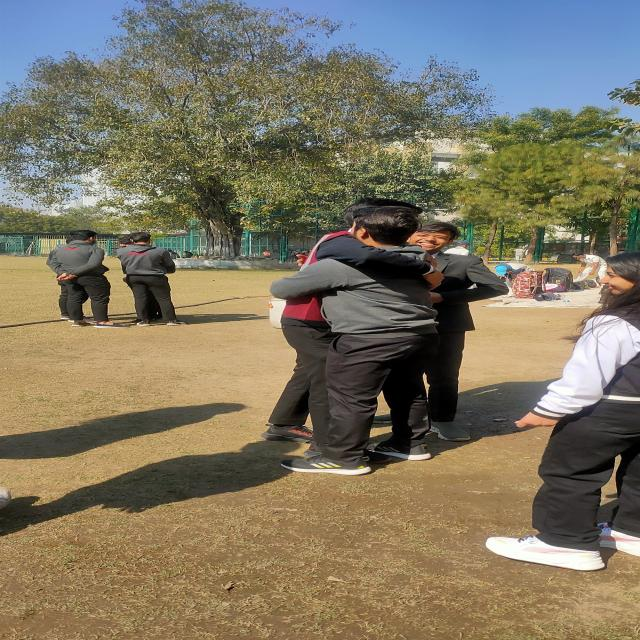unsafe: (526, 257, 640, 570), (409, 220, 509, 442), (348, 209, 428, 469), (117, 232, 189, 326), (54, 230, 106, 326), (569, 252, 605, 286)
